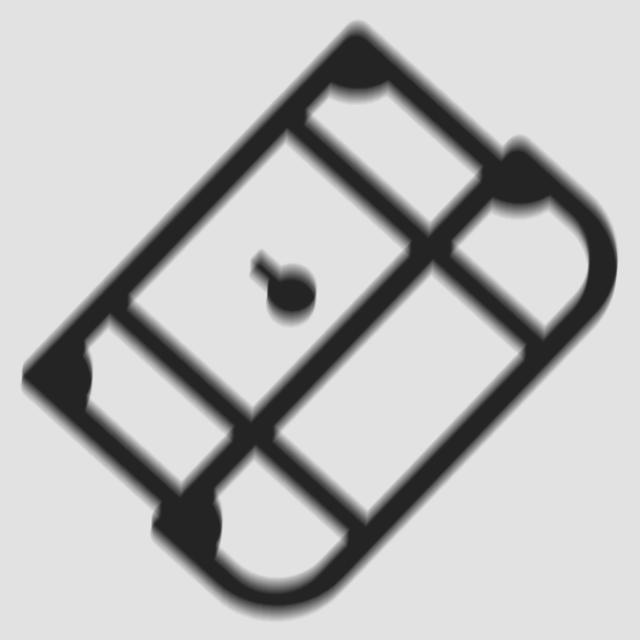treasure_box: (7, 10, 631, 635)
